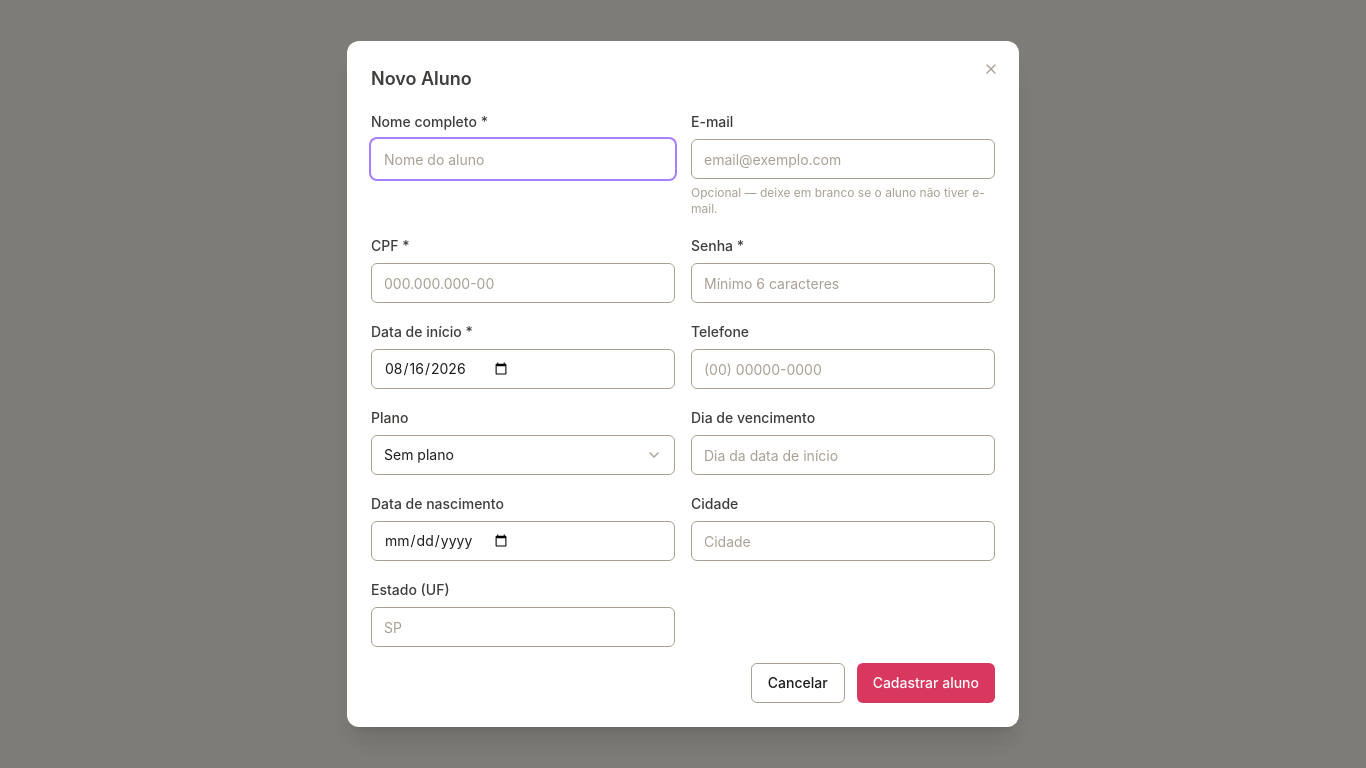
AlunoFormModal › exibe erros de validação ao submeter o formulário de cadastro vazio
The width and height of the screenshot is (1366, 768).
Step 1. Click the button "Cadastrar aluno" → (926, 683), box [857, 663, 995, 703]
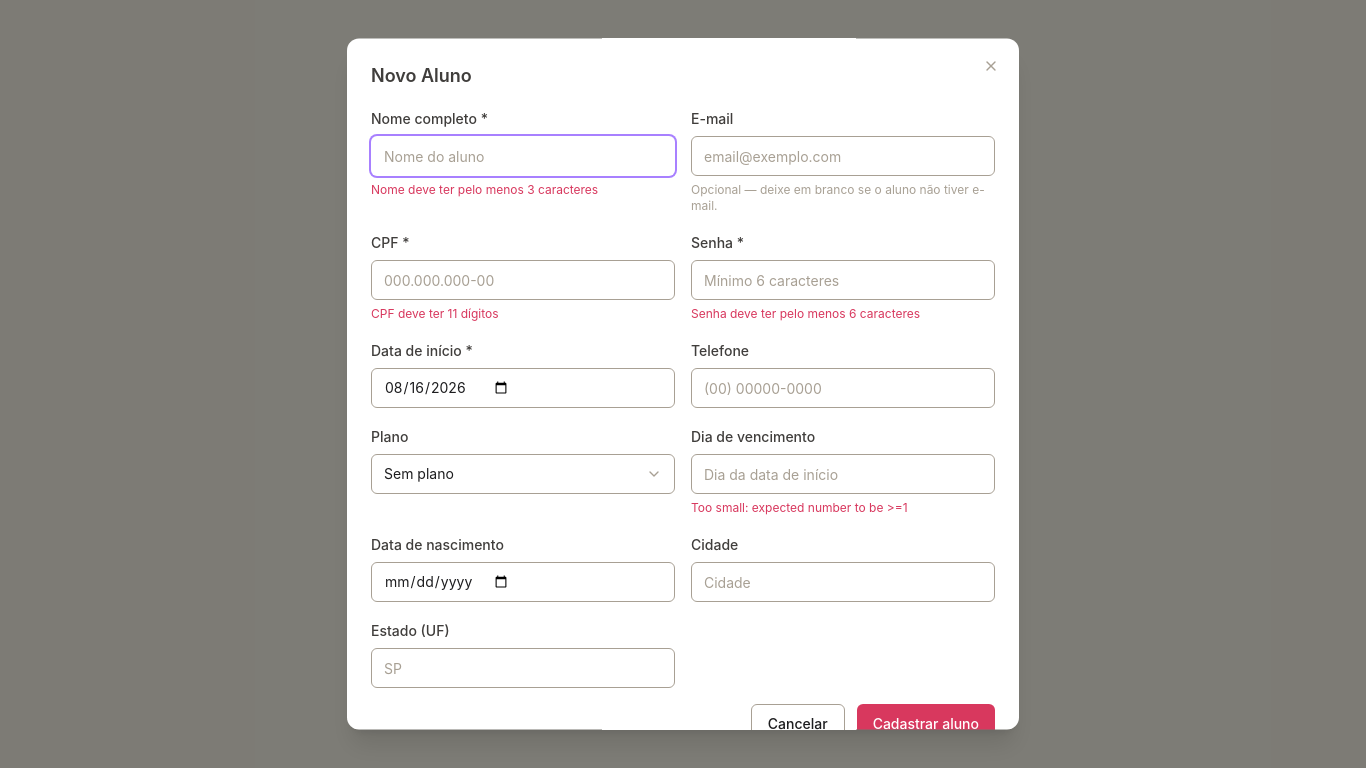
Result: the text "Nome deve ter pelo menos 3 caracteres" is shown at [371, 182, 598, 197]
Result: the text "CPF deve ter 11 dígitos" is shown at [371, 306, 499, 321]
Result: the text "Senha deve ter pelo menos 6 caracteres" is shown at [691, 306, 920, 321]
